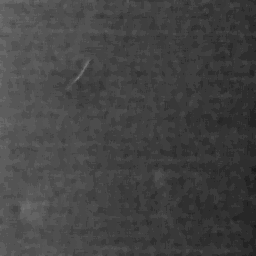sct: (61, 56, 104, 96)
